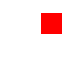square: (41, 13, 61, 33)
